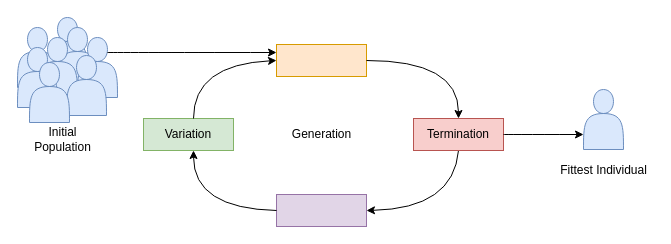
The diagram is 671 pixels wide and 244 high, and some of its shapes have lost their labels. The shapes that lost their labels are listed below. From the top down, each one's centre as x and y in pixels, then its label:
(321,60): Evaluation
(321,210): Selection
